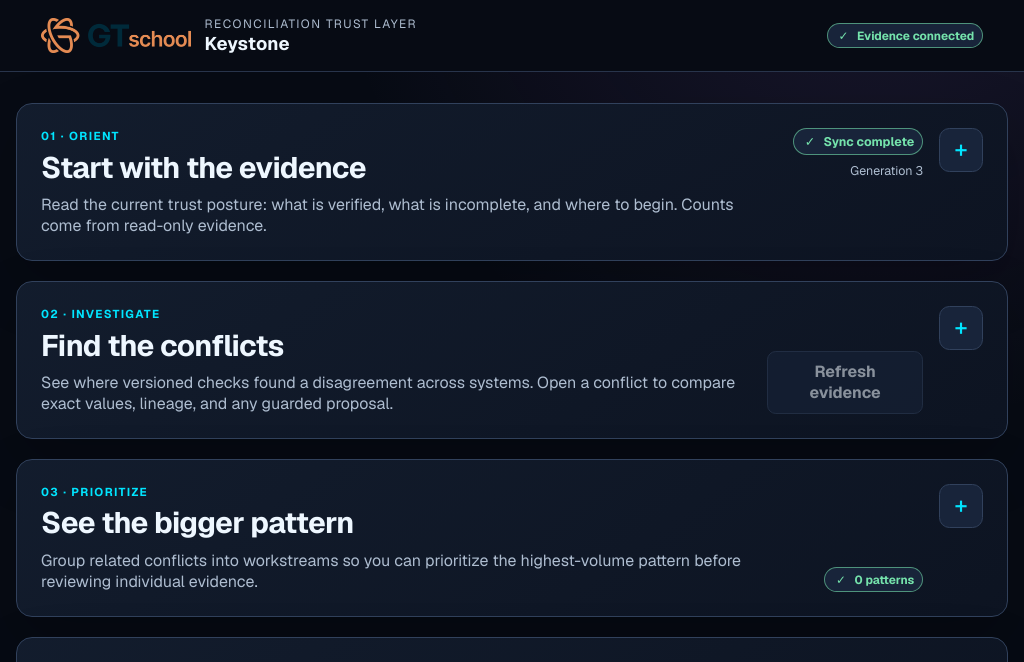
Test: dashboard loading states › disables conflict filters while conflict evidence is loading
Expected: the heading "Start with the evidence" is shown, top-left (41, 148), bottom-right (366, 186)
Click the button named "Expand Find the conflicts" at (961, 328), box top-left (939, 306), bottom-right (983, 350)
(page scrolled)
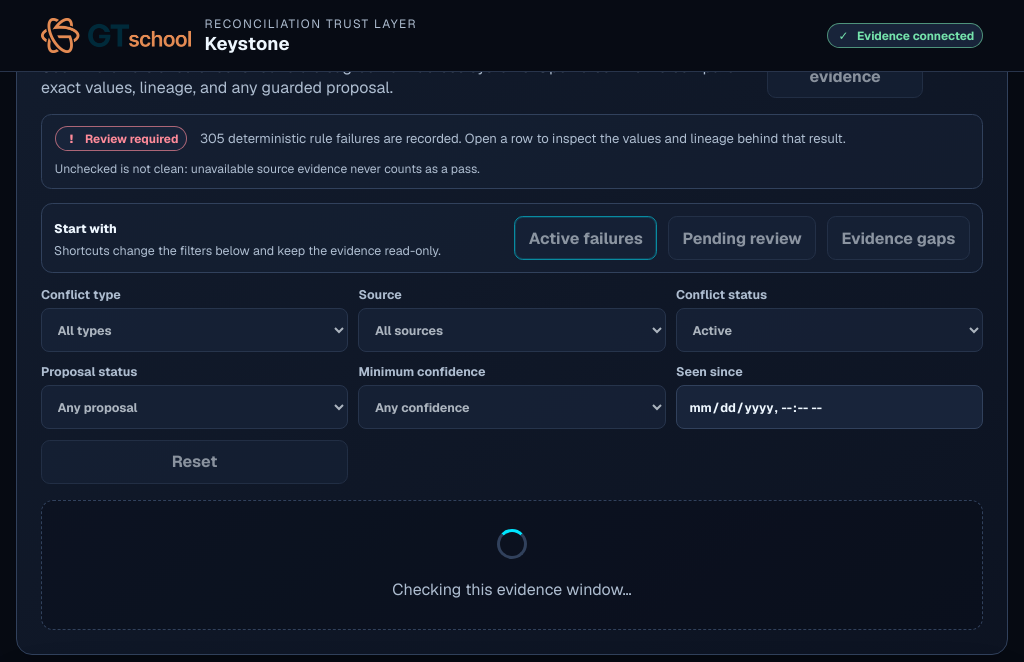
Result: the element named "Filter conflicts" is disabled at top-left (41, 286), bottom-right (983, 484)
